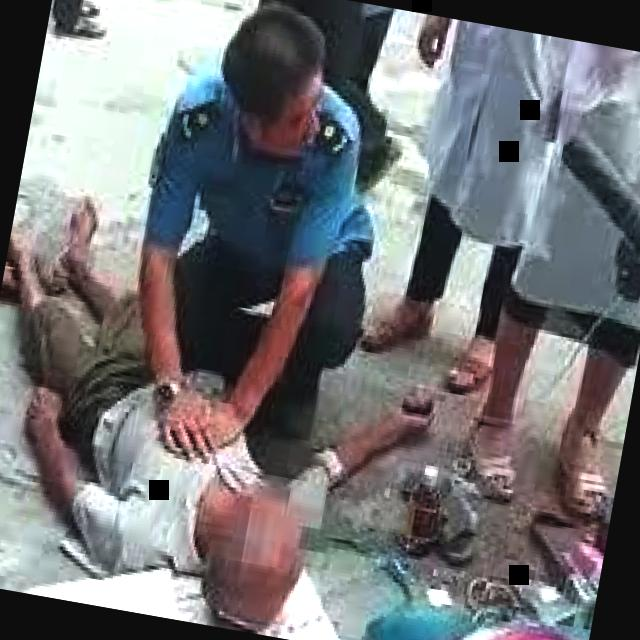Fall-Detected: (0, 165, 480, 640)
